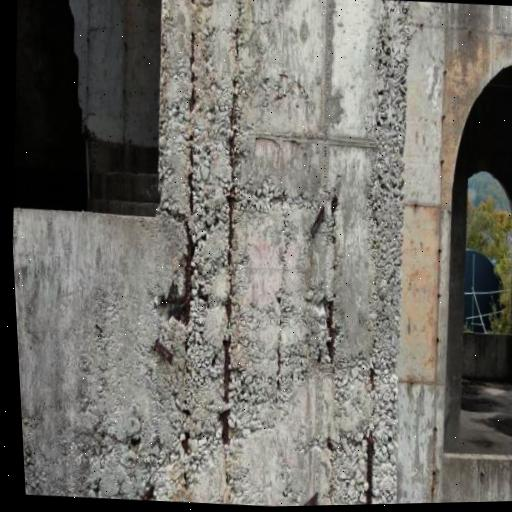exposed_rebar: (228, 92, 236, 276), (222, 284, 231, 446), (184, 218, 194, 326), (326, 301, 336, 364), (366, 433, 373, 504), (188, 174, 193, 215), (183, 429, 189, 454), (190, 33, 194, 67), (190, 85, 194, 111), (370, 367, 374, 390)
